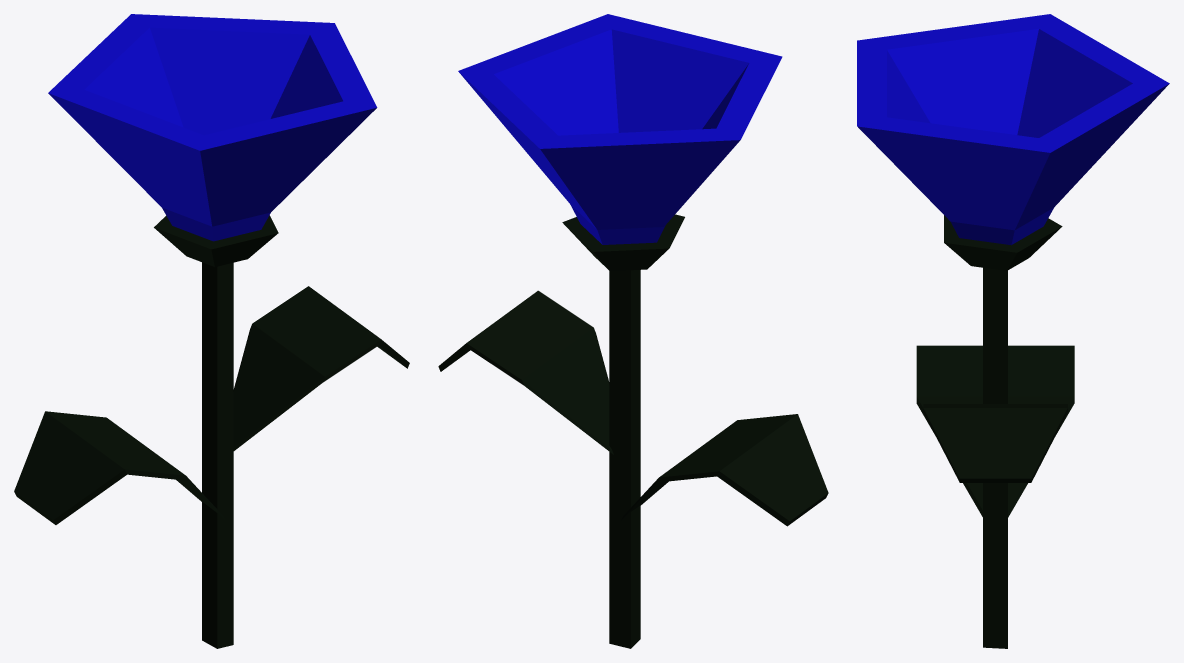
Rendered from Flower_4.obj.
3 renders of one model, left to right at view 1: azimuth 30°, elevation 25°; view 2: azimuth 150°, elevation 25°; view 3: azimuth 270°, elevation 25°, orthographic.
Parts seen in each view (by area): view 1: Flower_4_Cube.009; view 2: Flower_4_Cube.009; view 3: Flower_4_Cube.009.
Boxes of the visible parts, box(x1,y1,x2,y2) form: Flower_4_Cube.009: box(14, 14, 409, 648); Flower_4_Cube.009: box(438, 14, 828, 648); Flower_4_Cube.009: box(857, 14, 1169, 648).
Bounding box in the file's own units: 0.6189 × 0.9315 × 0.4714.
